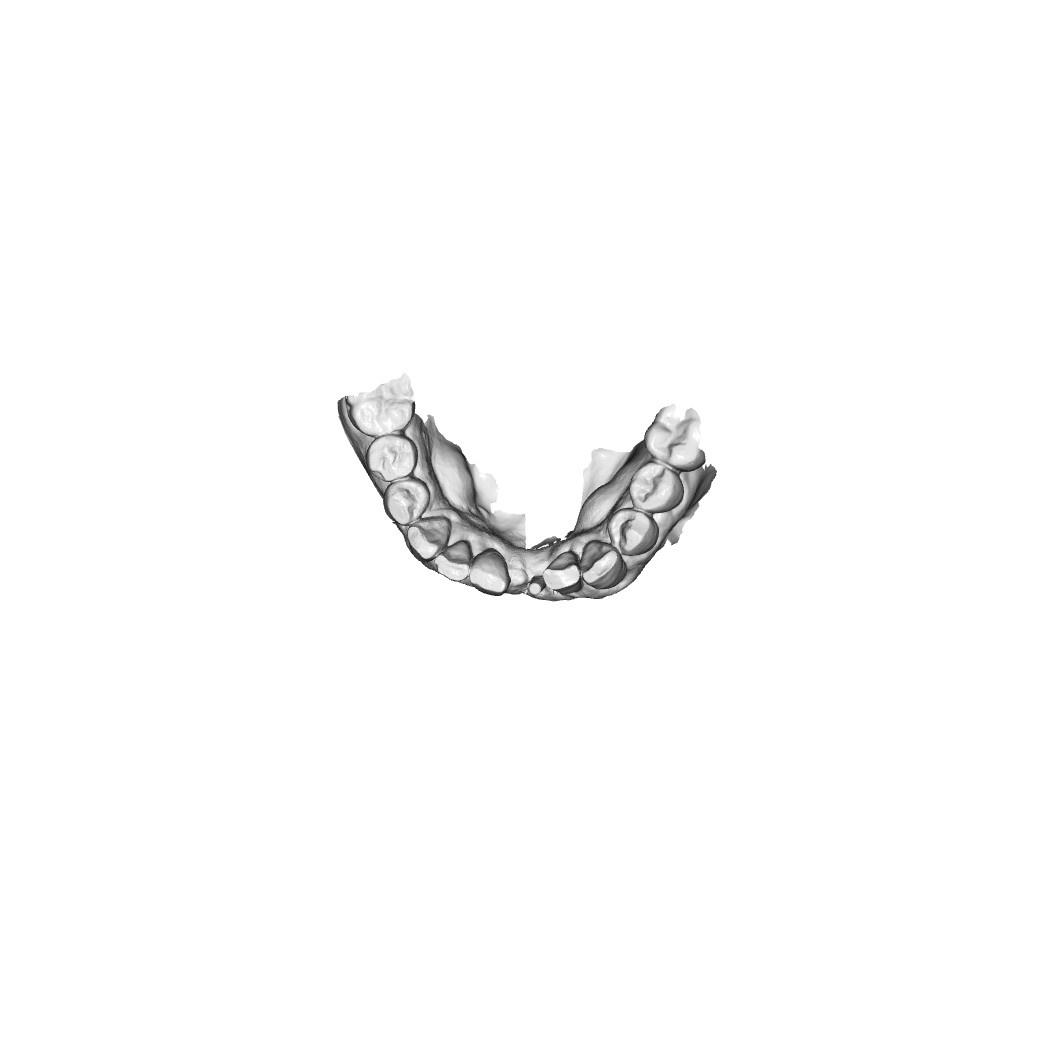abutment: (525, 572, 546, 600)
canine: (582, 540, 628, 590), (404, 516, 452, 562)
incisor: (429, 537, 477, 587), (466, 550, 509, 598), (543, 549, 584, 597)
molar: (344, 376, 414, 438), (641, 403, 705, 468)
premolar: (625, 461, 685, 515), (606, 506, 659, 558), (367, 433, 419, 483), (382, 479, 431, 527)
